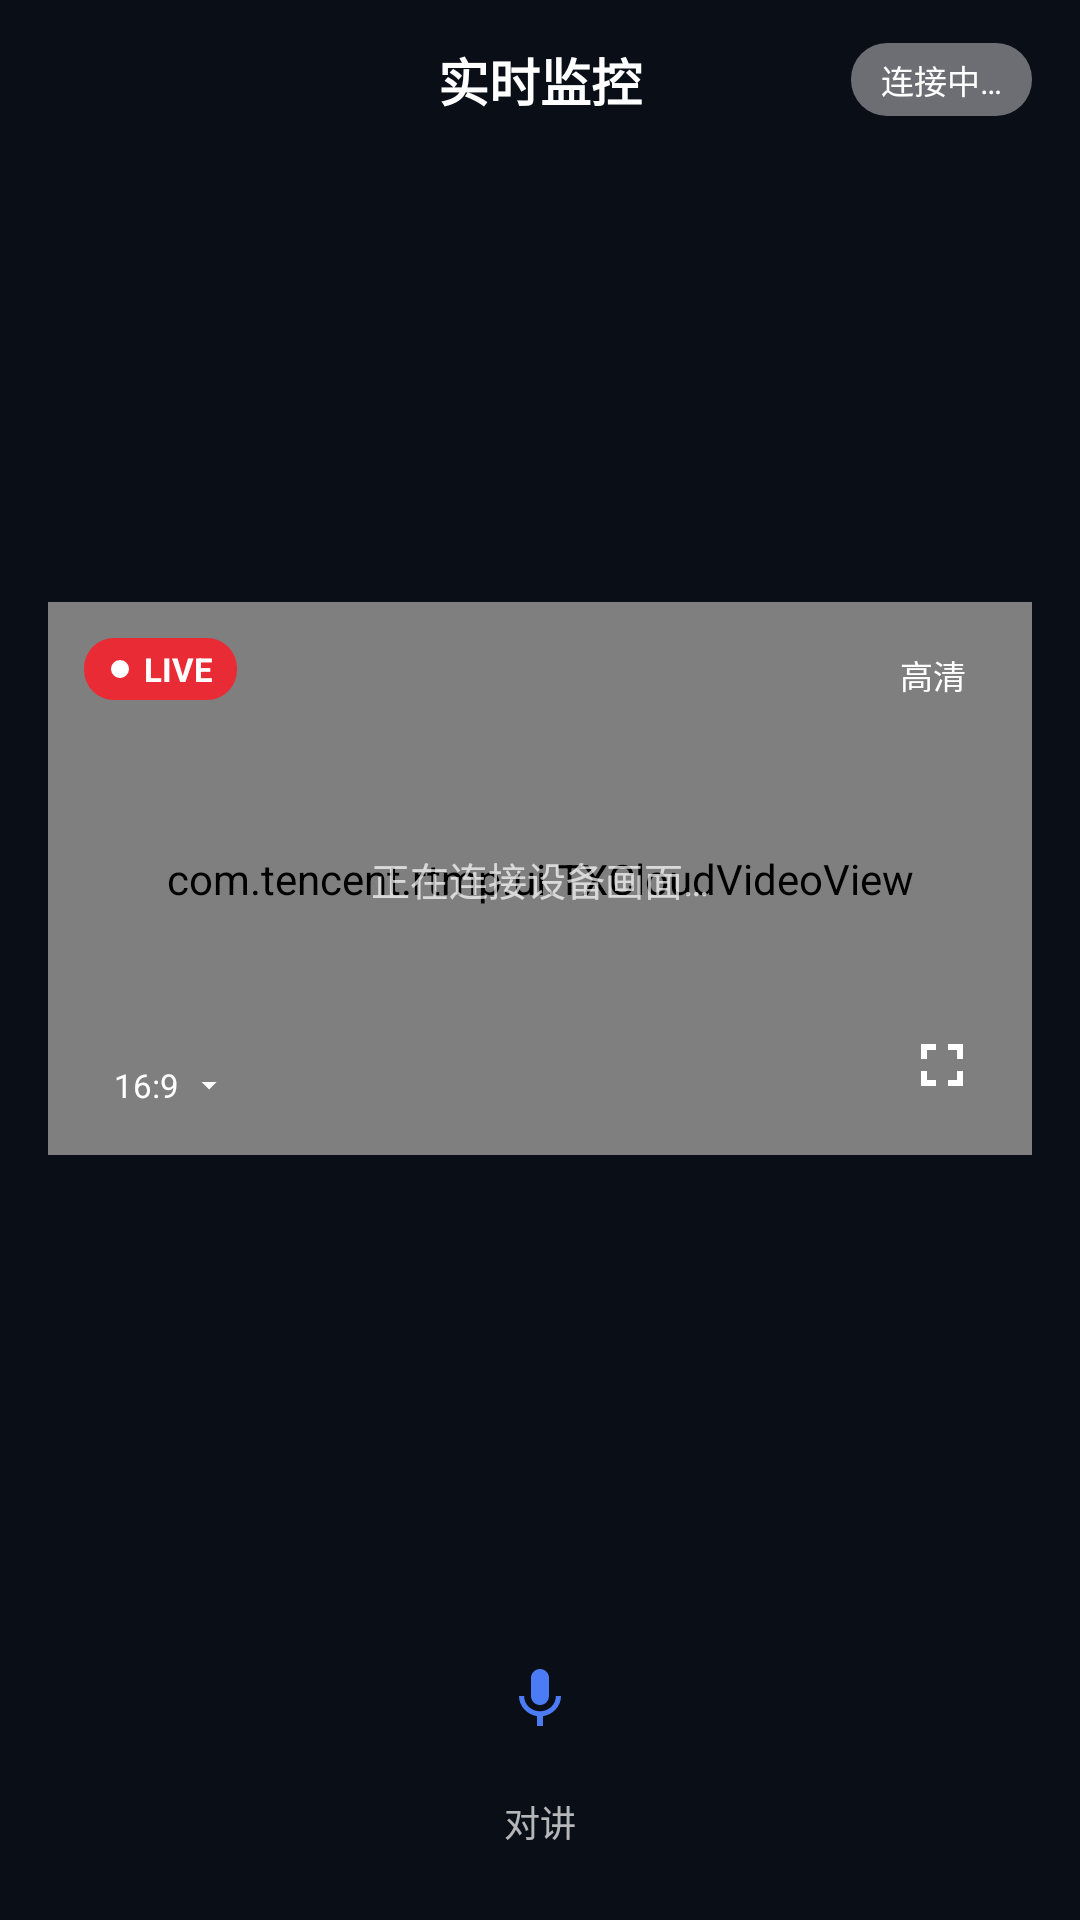

Point at icon controls on the screen. Image size 1080x1920, points as (x=x, y=y).
aitalk mic: (x=540, y=1697)
monitor fullscreen: (x=942, y=1065)
